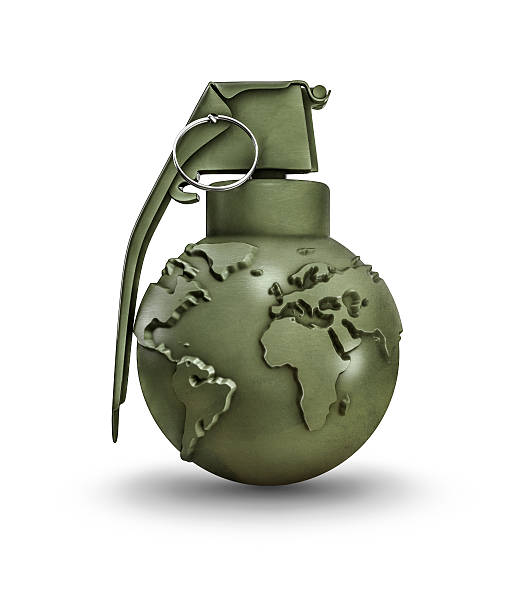e1: (108, 81, 402, 487)
